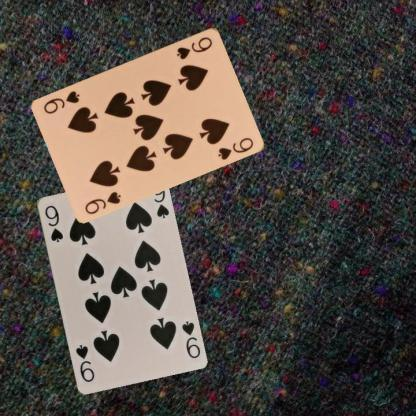9s: (82, 188, 123, 216), (174, 34, 214, 61), (178, 318, 202, 360), (42, 202, 64, 244)
